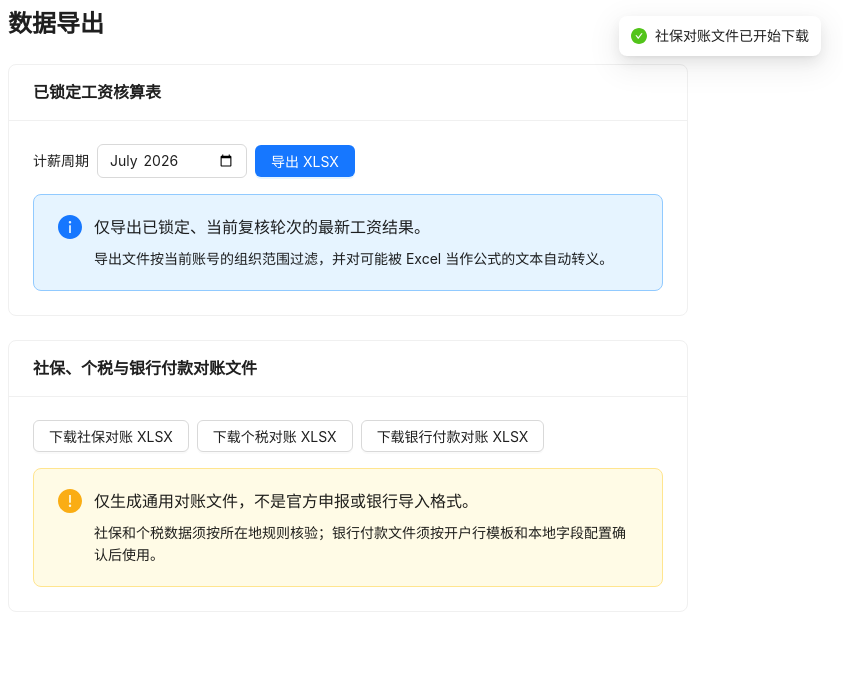
Test: ExportPage regulated reconciliation downloads › displays the backend error detail when a regulated download fails
Click the button "下载个税对账 XLSX" at {"x": 275, "y": 436}, box [197, 420, 353, 452]
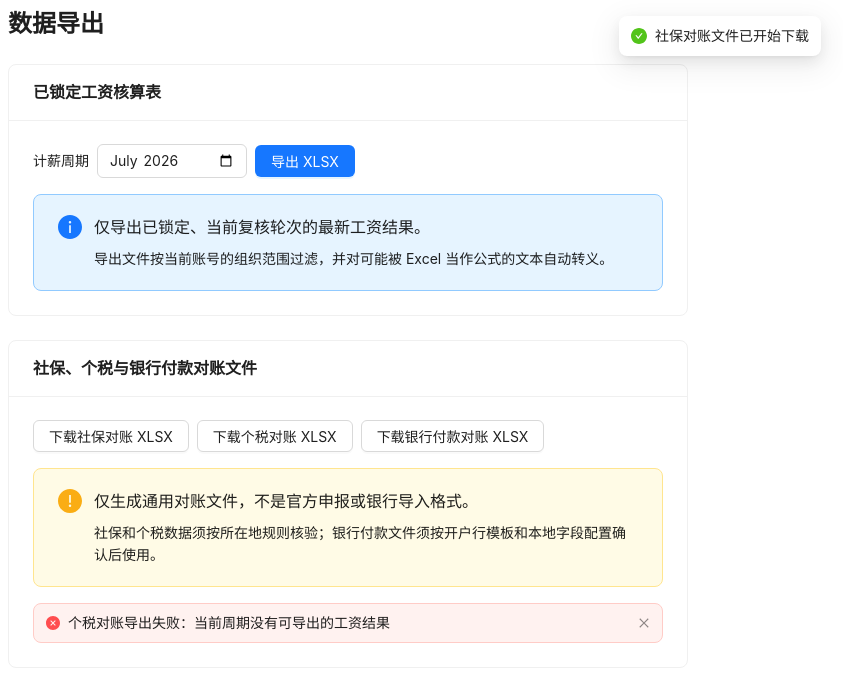
Expected: the text "个税对账导出失败：当前周期没有可导出的工资结果" is shown, [68, 614, 390, 631]
